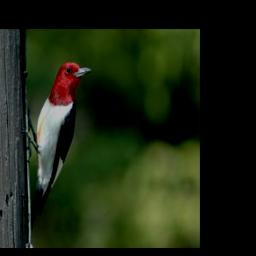Woodpecker: (18, 61, 93, 235)
